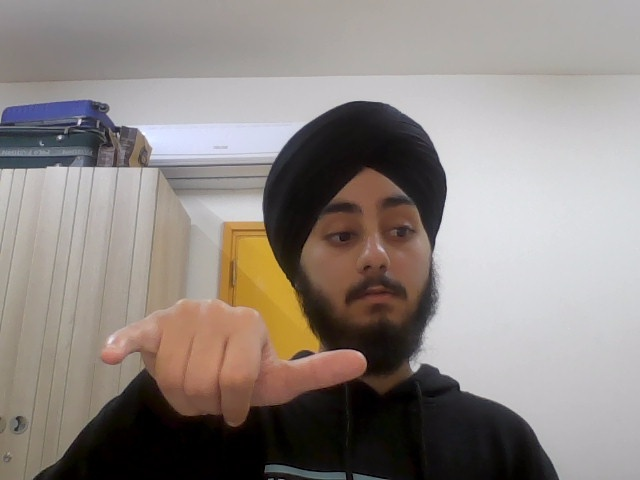Same: (98, 294, 368, 427)
